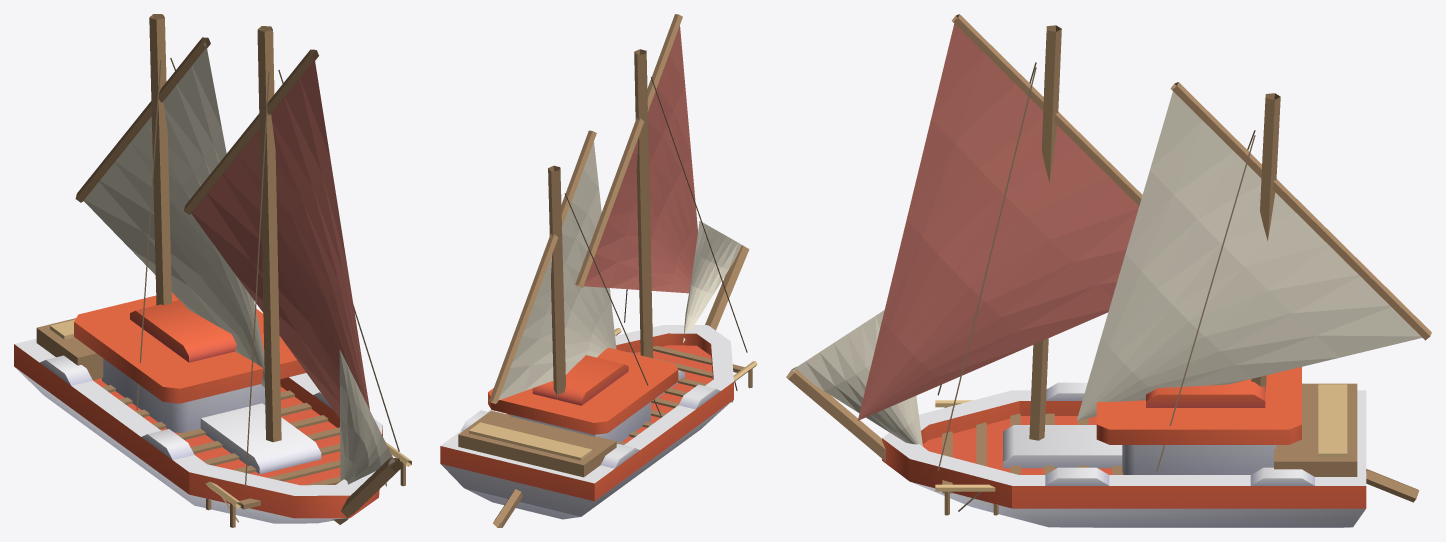
Rendered from pattamar-custom.glb.
The picture shows the model from 3 angles, left to right: view 1: azimuth 30°, elevation 25°; view 2: azimuth 150°, elevation 25°; view 3: azimuth 270°, elevation 25°; orthographic projection. The views are drawn at different scales.
Visible parts, largest first — view 1: boat-sail-a, pattamar red, pattamar linen, pattamar wood, pattamar rope, pattamar gold; view 2: boat-sail-a, pattamar wood, pattamar red, pattamar linen, pattamar gold, pattamar rope; view 3: pattamar linen, pattamar red, boat-sail-a, pattamar wood, pattamar gold, pattamar rope.
Boxes of the visible parts, x1,y1,x2,y2 form: boat-sail-a: [14, 292, 382, 523]; pattamar red: [191, 54, 369, 418]; pattamar linen: [83, 42, 394, 484]; pattamar wood: [36, 14, 405, 527]; pattamar rope: [136, 58, 399, 522]; pattamar gold: [50, 319, 411, 508]; boat-sail-a: [440, 325, 733, 519]; pattamar wood: [458, 14, 752, 527]; pattamar red: [579, 26, 697, 293]; pattamar linen: [493, 142, 742, 402]; pattamar gold: [469, 328, 757, 460]; pattamar rope: [564, 76, 747, 415]; pattamar linen: [791, 86, 1422, 446]; pattamar red: [857, 18, 1139, 420]; boat-sail-a: [882, 367, 1366, 527]; pattamar wood: [786, 14, 1431, 515]; pattamar gold: [935, 384, 1347, 491]; pattamar rope: [937, 62, 1255, 511].
Bounding box in the file's own units: 3.93 × 9.41 × 11.21.
6 materials, 1 textured.
